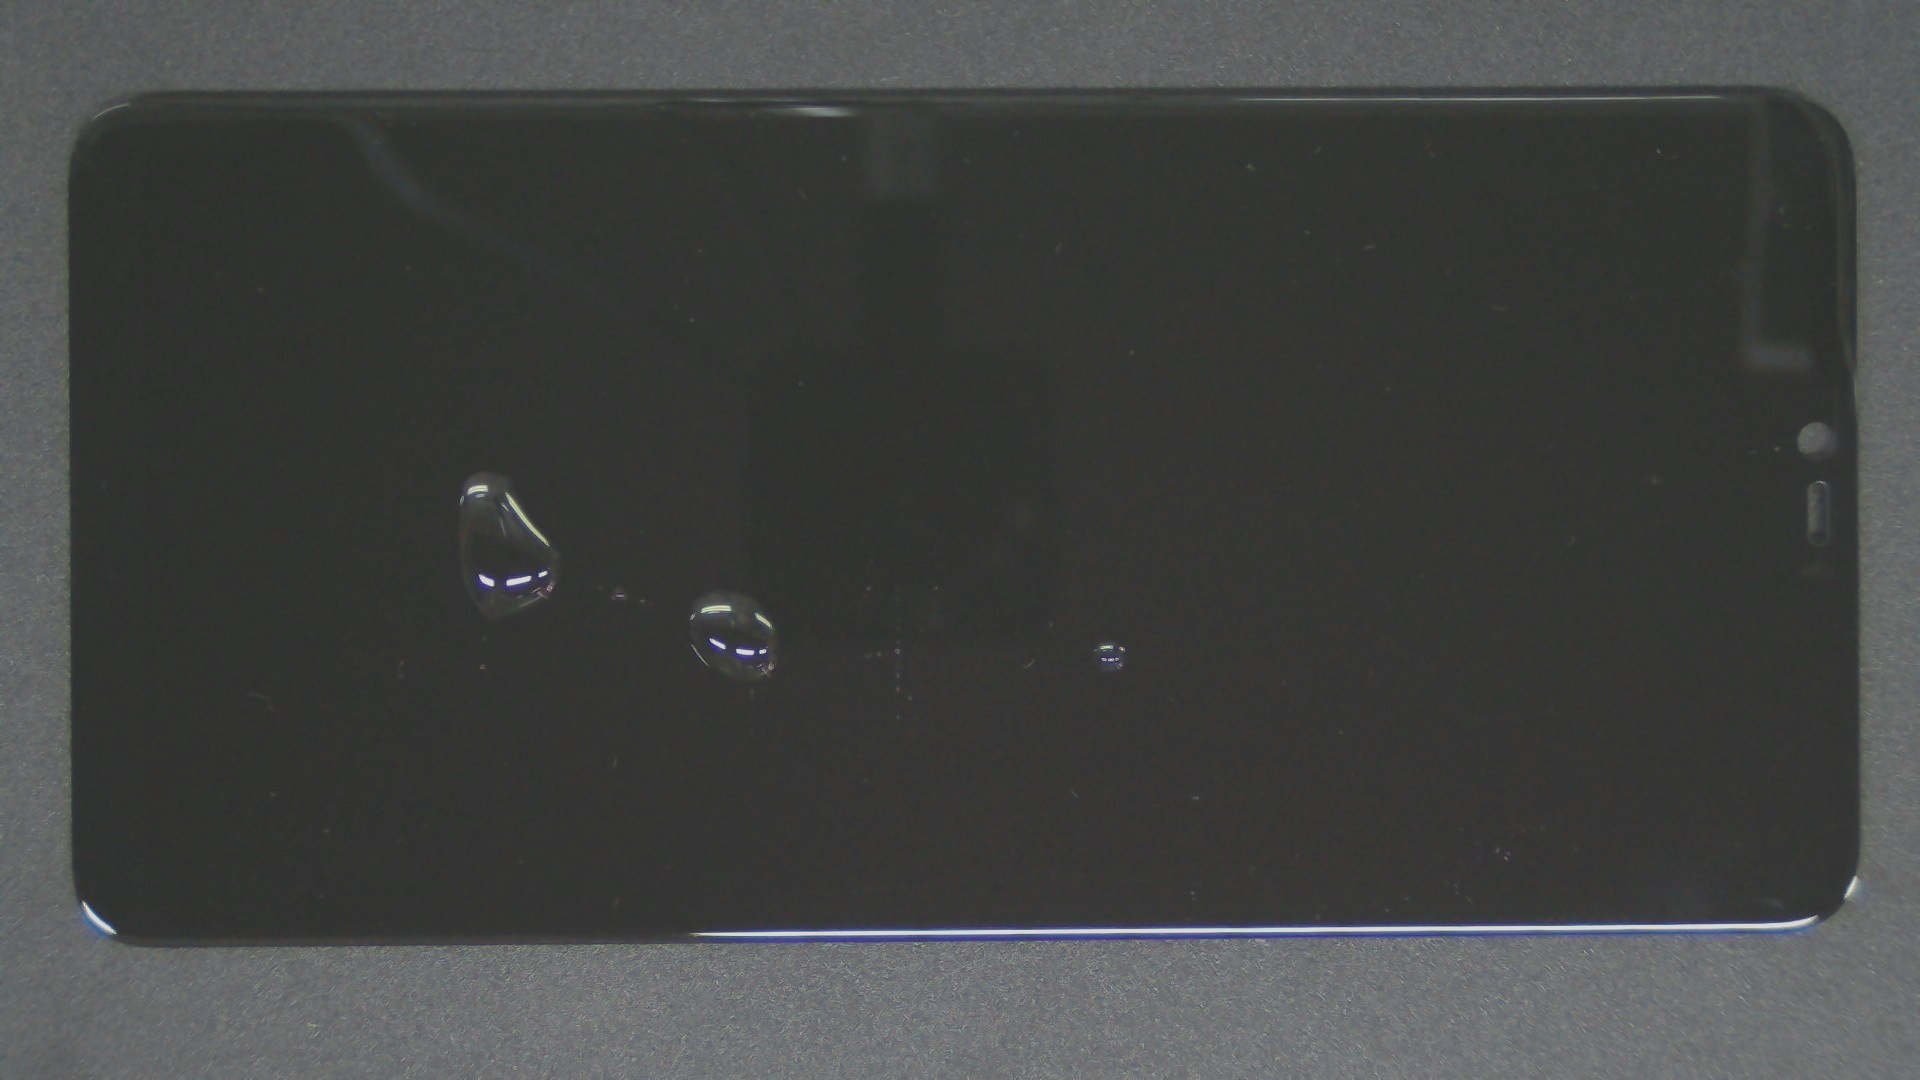oil: (553, 319, 1654, 963), (363, 294, 1084, 886), (241, 235, 723, 707)
